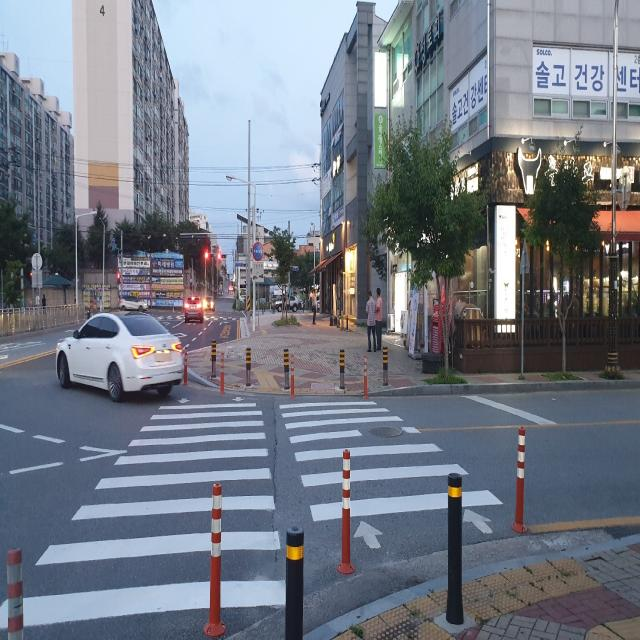횡단보도: (0, 396, 503, 630)
